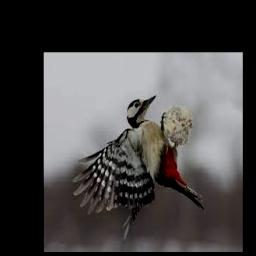Woodpecker: (72, 95, 205, 239)
